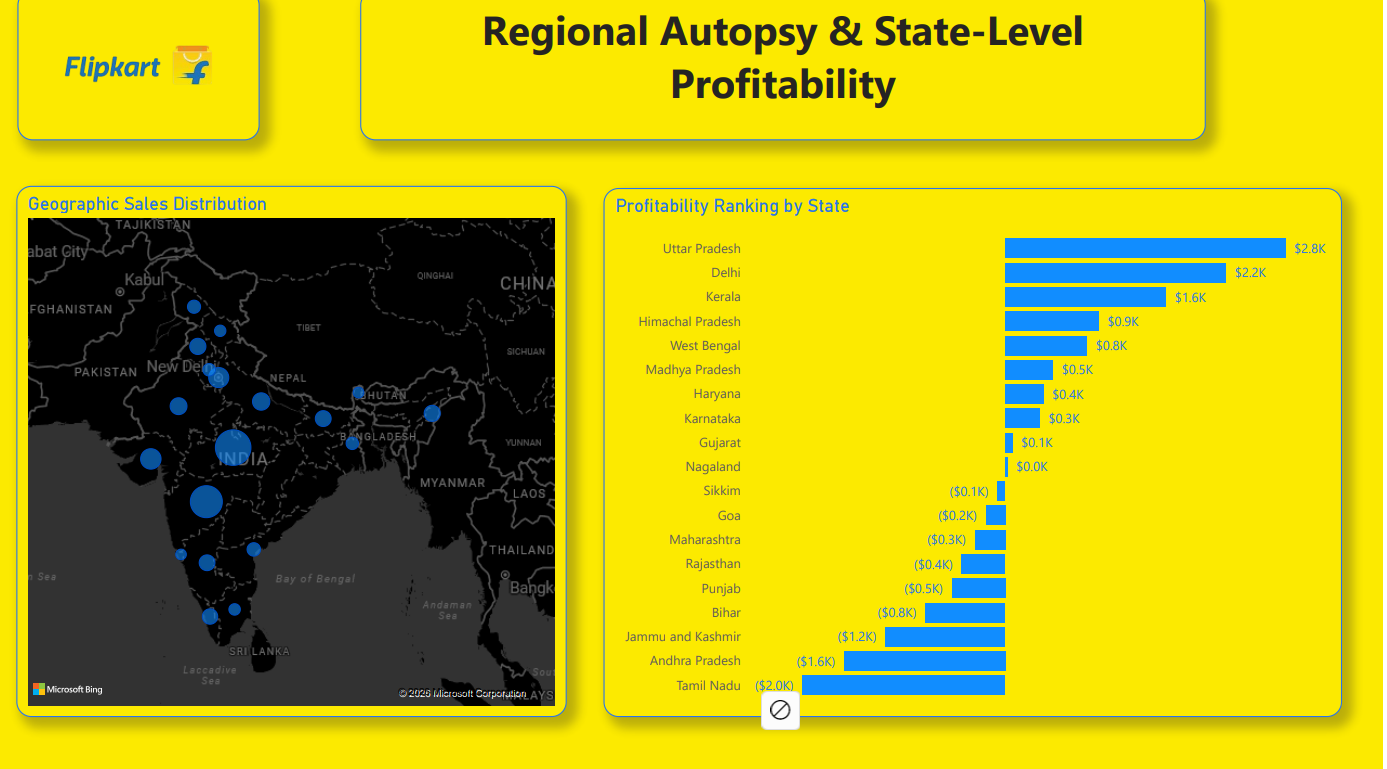

What the dashboard file says about the page in this screenshot:
{"tool":"powerbi","page":{"name":"Regional Insights","canvas":[1280,720],"ordinal":1},"visuals":[{"type":"textbox","box":[335.1,0,781.5,139.1],"z":0},{"type":"image","box":[17.8,0,223.7,139.1],"z":1000},{"type":"map","title":"Geographic Sales Distribution","fields":{"Category":["List_of_Orders[1].State"],"Size":["_Key Measures.Total Revenue"]},"box":[17.4,181.4,508.1,490.7],"z":2000},{"type":"clusteredBarChart","title":"Profitability Ranking by State","fields":{"Category":["List_of_Orders[1].State"],"Y":["_Key Measures.Total Profit"]},"box":[560.5,182.6,682.6,489.5],"z":3000}]}

Visuals, with their boxes in screenshot pixels (x1, y1, x2, y2), scaled from the page's 1280x720 canvas onto the 1387x769 screenshot:
textbox: 363, 0, 1210, 149
image: 19, 0, 262, 149
"Geographic Sales Distribution" map: 19, 194, 569, 718
"Profitability Ranking by State" clusteredBarChart: 607, 195, 1347, 718
